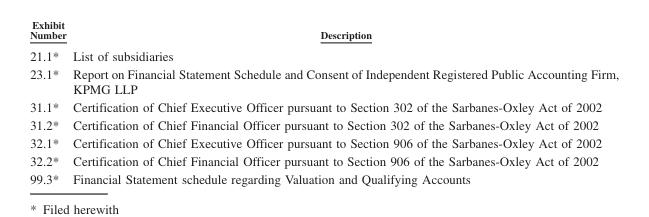table: (29, 28, 618, 185)
table column: (69, 28, 618, 185), (29, 28, 69, 185)
table column header: (29, 28, 618, 44)
table row: (29, 64, 618, 97), (29, 44, 618, 64), (29, 97, 618, 115), (29, 115, 618, 133), (29, 133, 618, 151), (29, 151, 618, 169), (29, 28, 618, 44), (29, 169, 618, 185)
